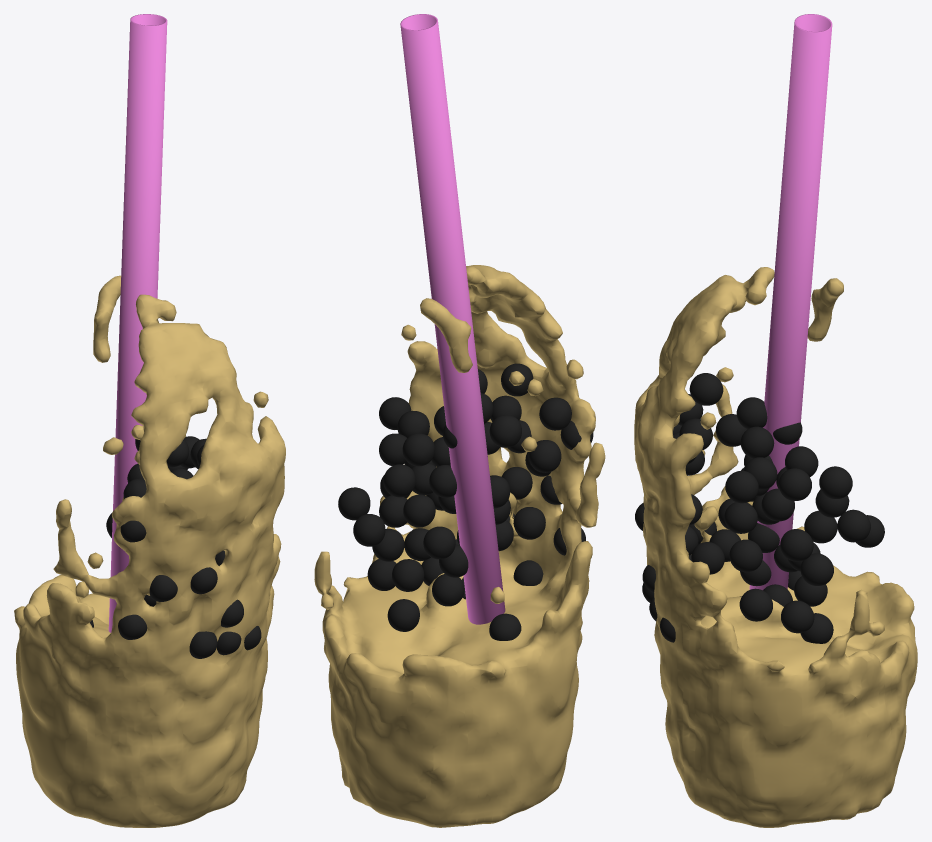
File: tea.glb
The picture shows the model from 3 angles, left to right: view 1: azimuth 30°, elevation 25°; view 2: azimuth 150°, elevation 25°; view 3: azimuth 270°, elevation 25°; orthographic projection. The views are drawn at different scales.
Parts seen in each view (by area): view 1: domain_Cube, straw_Cylindre.001, boba_Sphère.002; view 2: domain_Cube, boba_Sphère.002, straw_Cylindre.001; view 3: domain_Cube, boba_Sphère.002, straw_Cylindre.001.
Part boxes in pixels (x1,y1,x2,y2): domain_Cube: [14, 275, 285, 827]; straw_Cylindre.001: [108, 14, 167, 632]; boba_Sphère.002: [89, 436, 261, 658]; domain_Cube: [314, 265, 605, 827]; boba_Sphère.002: [338, 363, 593, 640]; straw_Cylindre.001: [400, 14, 505, 624]; domain_Cube: [634, 267, 917, 827]; boba_Sphère.002: [635, 373, 884, 643]; straw_Cylindre.001: [749, 14, 832, 590].
Size of the model in its own units: 1.63 by 5.19 by 1.71.
